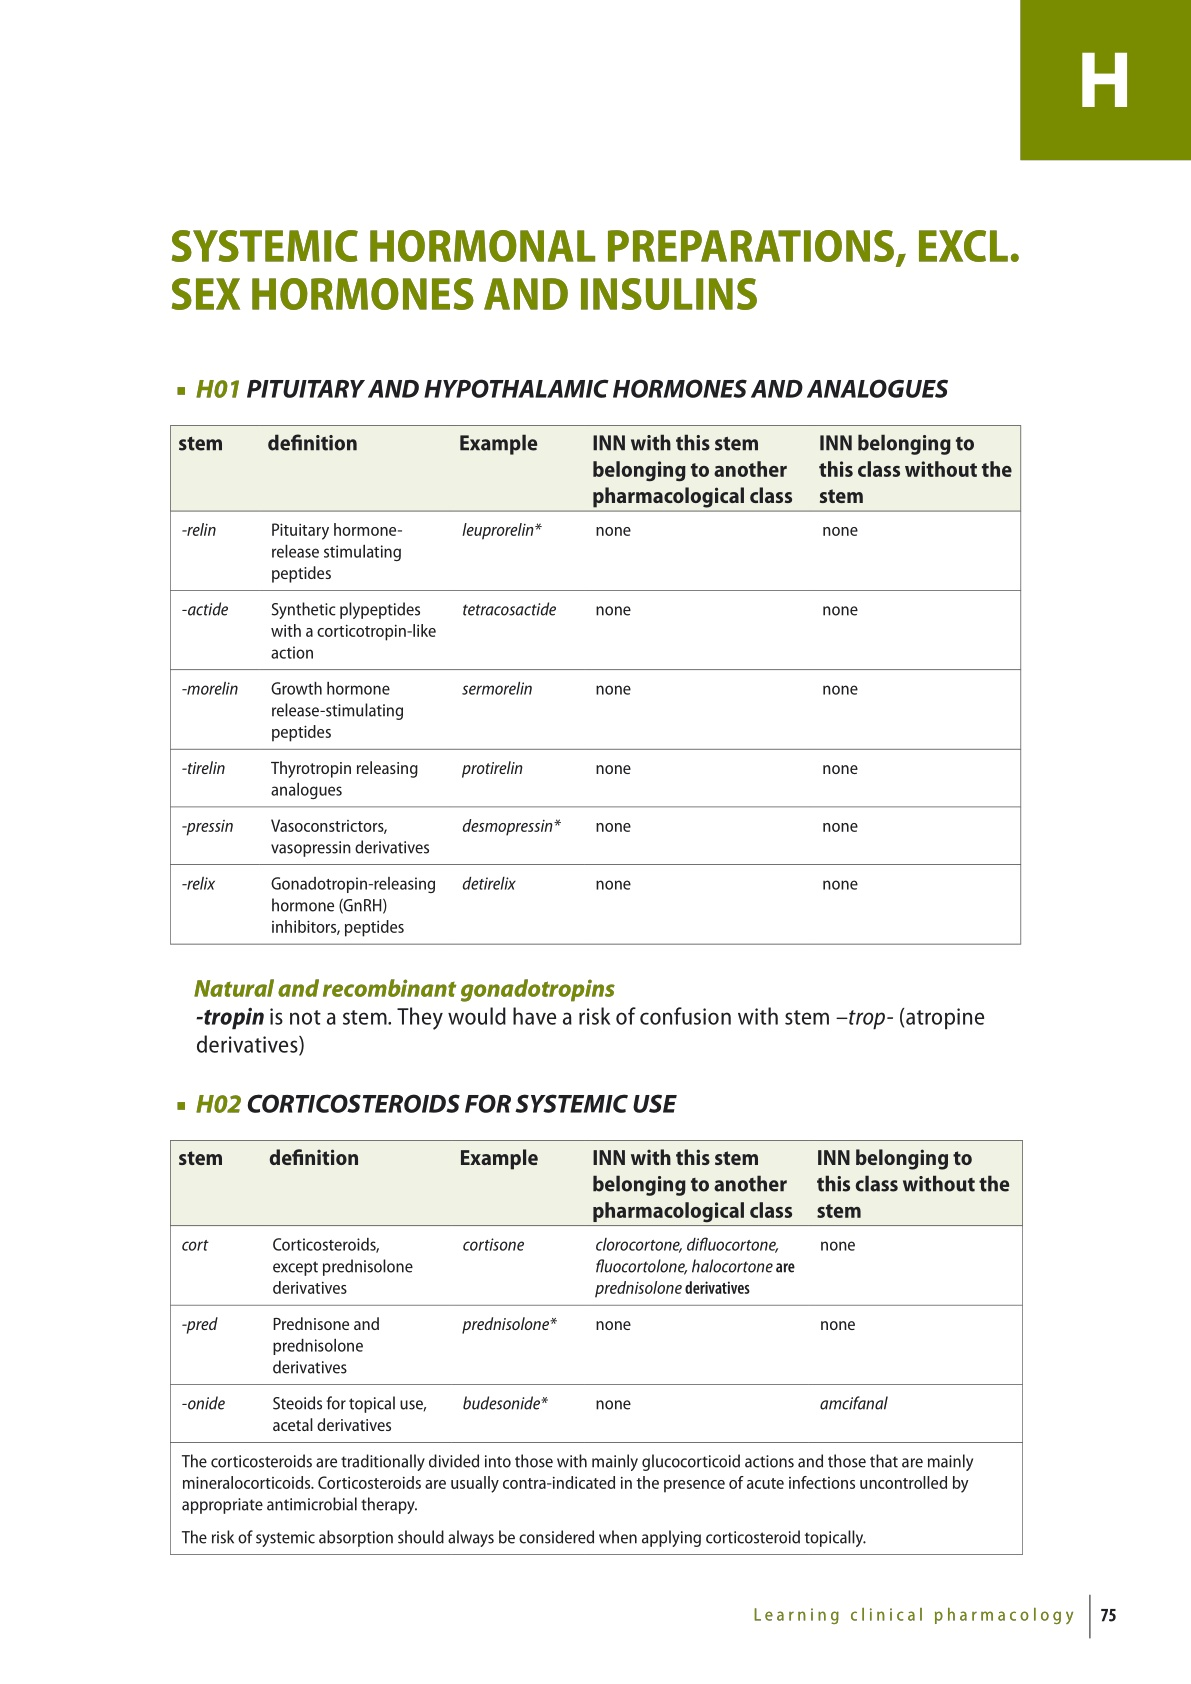partial_lined: (169, 423, 1022, 946)
partial_lined_merged_cells: (168, 1138, 1023, 1556)
